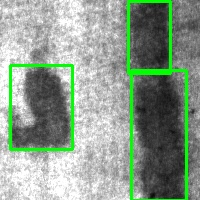patches: (131, 70, 186, 200), (10, 65, 72, 149), (128, 1, 170, 73)
